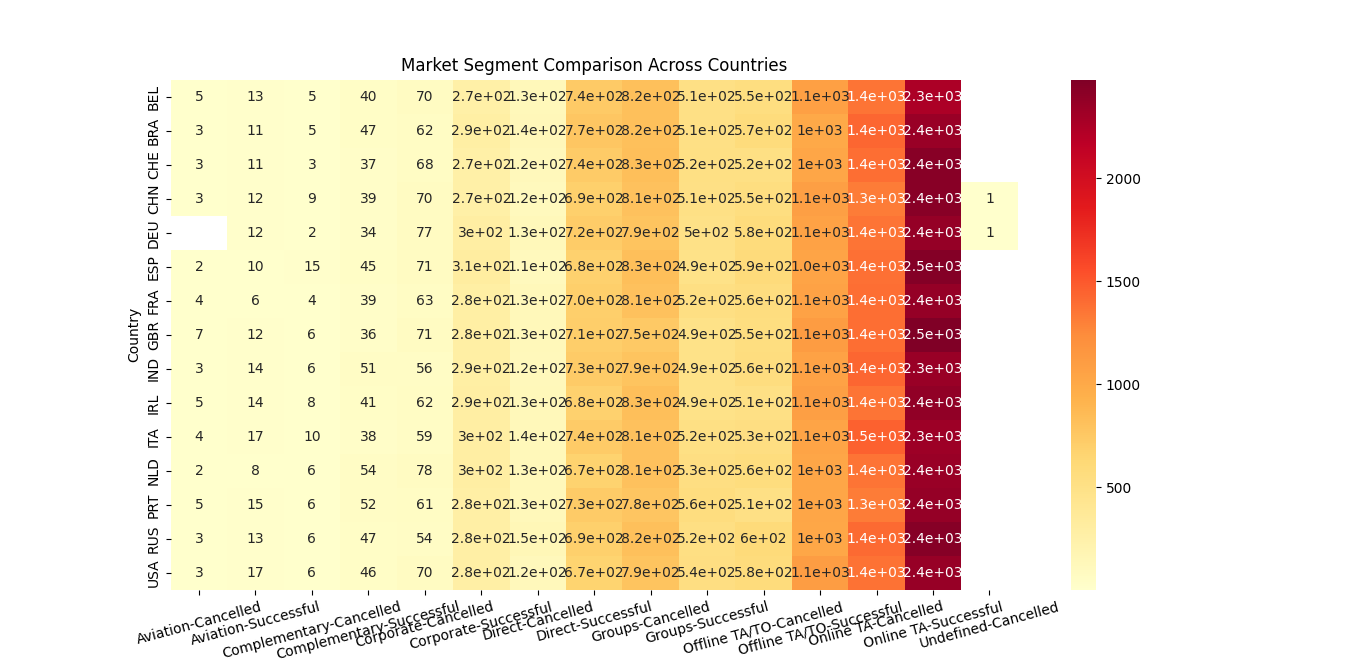

This screenshot's page, from the dashboard's own definition file:
{"tool":"powerbi","page":{"name":"Page 1","canvas":[1280,720],"ordinal":0},"visuals":[{"type":"heatmapF244EA9EE1F34E828A80CF19B41976F8","fields":{"location":["HotelBooking Datasets.country"],"latitude":["Sum(HotelBooking Datasets.total_visitors)"]},"box":[10.7,0,1269.6,720.7],"z":0}]}

Visuals, with their boxes on the page's 1280x720 design canvas (x1, y1, x2, y2). These are canvas units, not pixel positions in the 1366x663 screenshot, which may show the page scaled, cropped or inside an application window:
heatmapF244EA9EE1F34E828A80CF19B41976F8 - HotelBooking Datasets.country x Sum(HotelBooking Datasets.total_visitors): 11,0,1280,721
